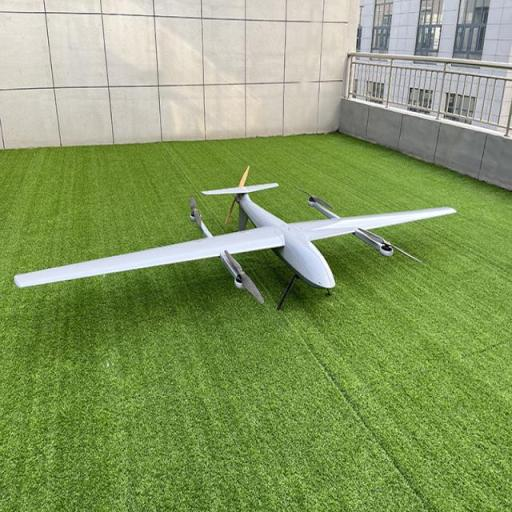uav: (16, 166, 460, 320)
